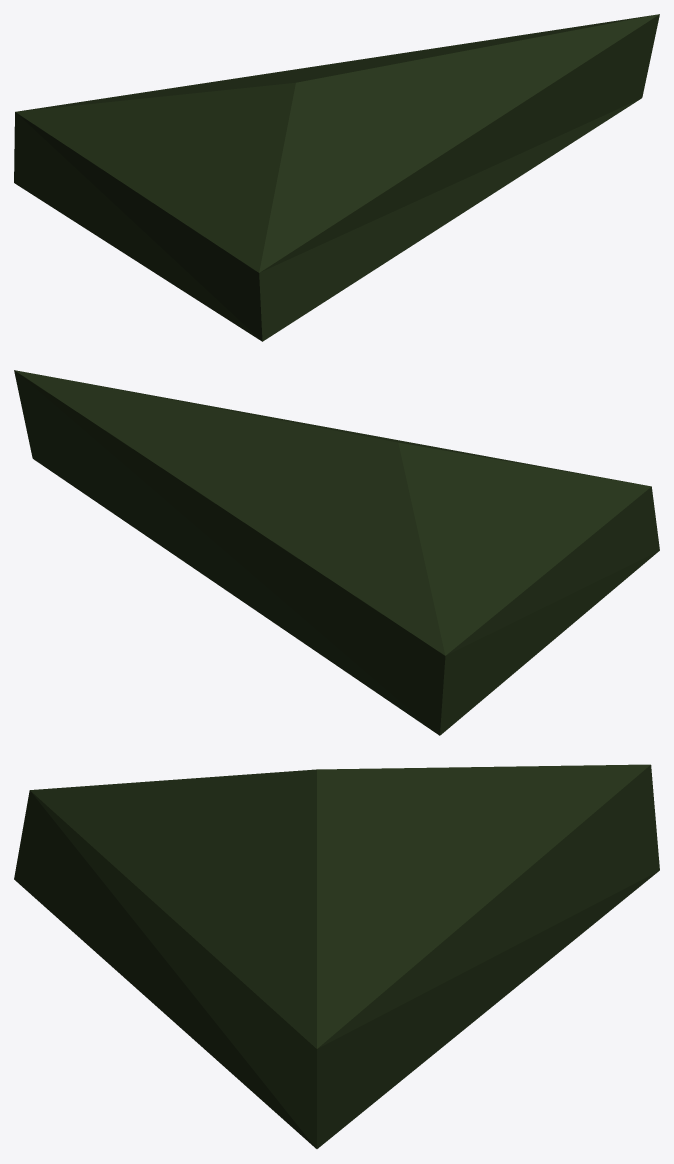
Rendered from leaf_v2.glb.
The picture shows the model from 3 angles, top to bottom: view 1: azimuth 30°, elevation 25°; view 2: azimuth 150°, elevation 25°; view 3: azimuth 270°, elevation 25°; orthographic projection. The views are drawn at different scales.
Visible parts, largest first — view 1: leaf_v2.glb; view 2: leaf_v2.glb; view 3: leaf_v2.glb.
Part boxes in pixels (box(x1,y1,x2,y2)): leaf_v2.glb: box(14, 14, 659, 341); leaf_v2.glb: box(14, 370, 659, 735); leaf_v2.glb: box(14, 764, 659, 1148).
Bounding box in the file's own units: 1 × 0.2718 × 0.7512.
